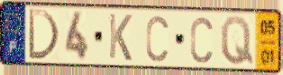4: (64, 10, 91, 63)
C: (189, 15, 215, 65), (145, 13, 171, 63)
D: (26, 7, 61, 63)
K: (108, 11, 134, 63)
Q: (219, 15, 256, 67)
